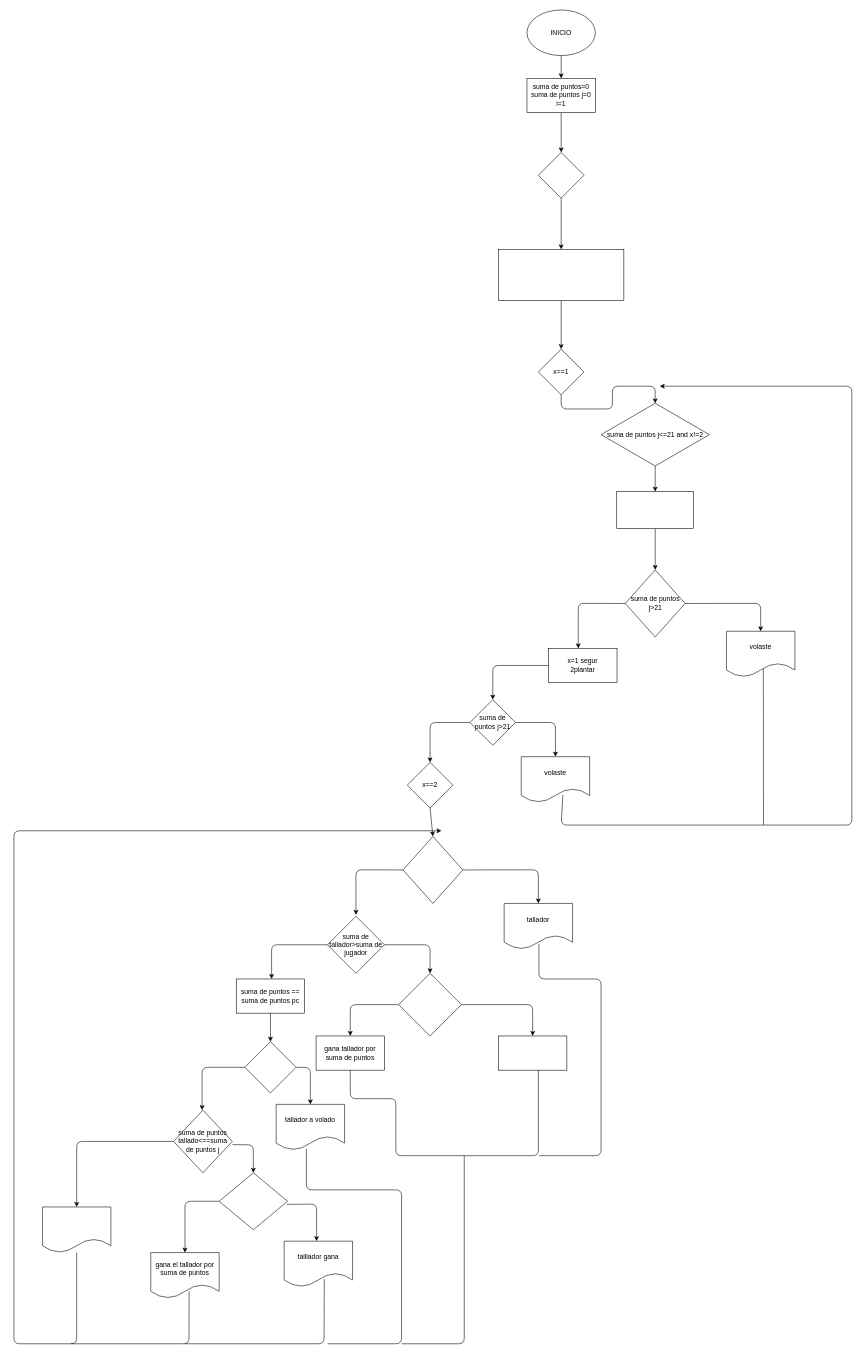
The diagram is 866 pixels wide and 1358 high, and some of its shapes have lost their labels. Each missing label, with the centre of its shape:
"d=ramdom.randit(1,10)" goes at (x=655, y=510).
"el tallador ha volado" goes at (x=76, y=1229).
"i<=2" goes at (x=561, y=175).
"suma de ountos tallador ==suma de puntos j" goes at (x=253, y=1201).
"suma de puntos j=suma de puntos j+jugador suma de puntos j=suma de puntos j+pc" goes at (x=561, y=275).
"suma de puntos pc >21" goes at (x=270, y=1067).
"suma de puntos pc>21" goes at (x=432, y=869).
"suma de puntos-sumade puntos j" goes at (x=429, y=1004).
"tallador gana por un punto" goes at (x=532, y=1052).
